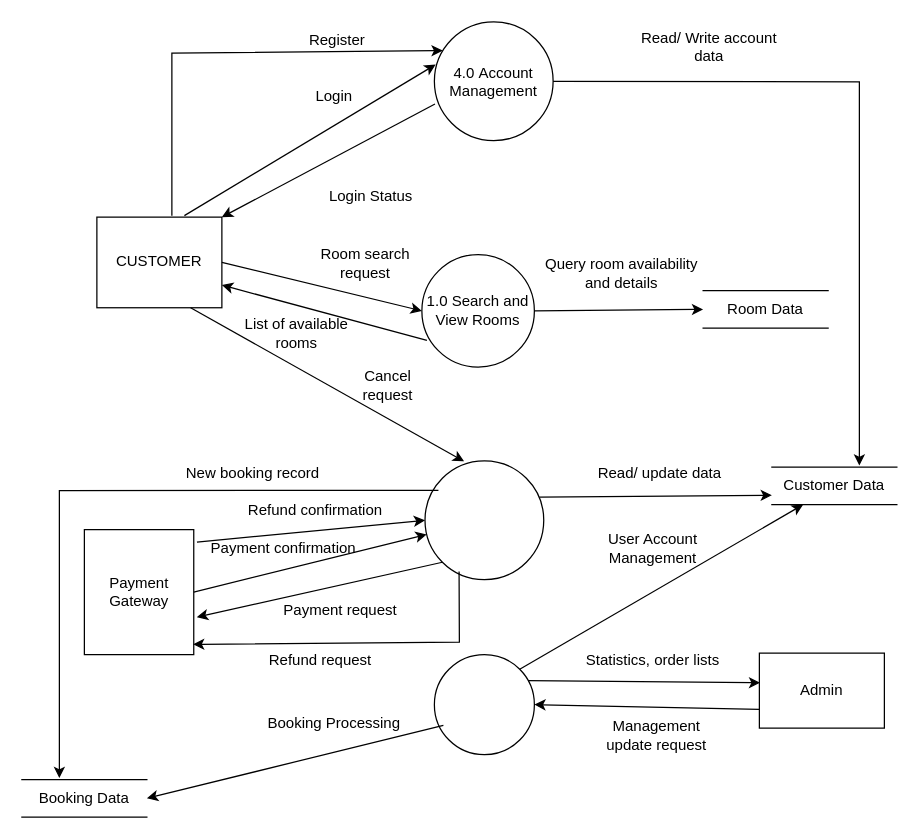
The diagram is 919 pixels wide and 840 high, and some of its shapes have lost their labels. The centre of each missing label's shape, as x and y in pixels:
"2.0 Handle booking" belongs at point (484, 520).
"3.0 Admin Operations" belongs at point (483, 704).
